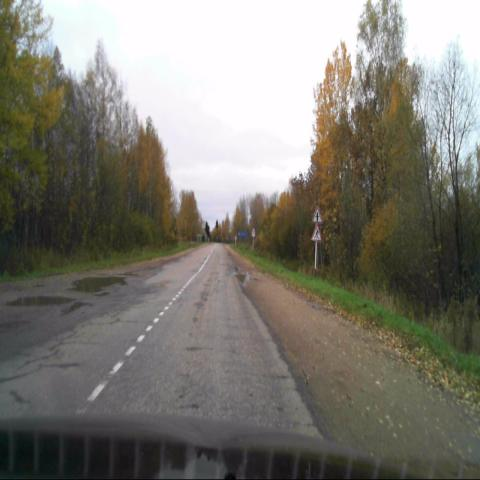1_22: (311, 223, 322, 242)
2_3: (312, 206, 322, 223)
